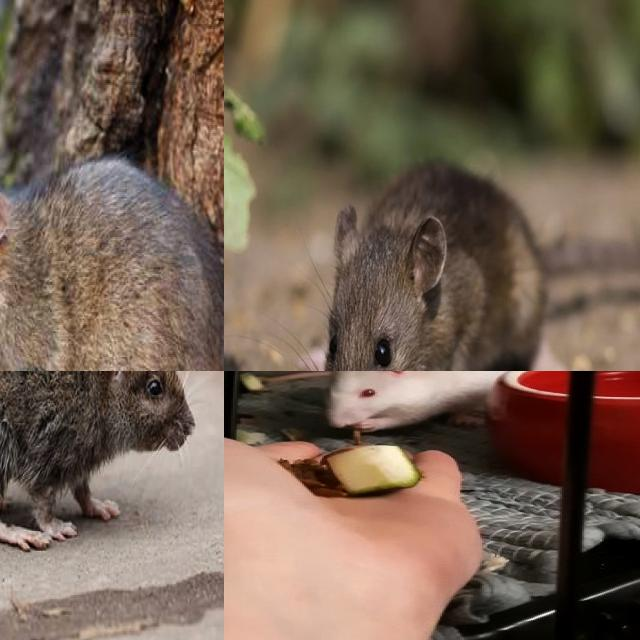rat: (0, 150, 224, 371), (305, 154, 508, 371), (0, 371, 192, 547), (310, 371, 508, 442)
